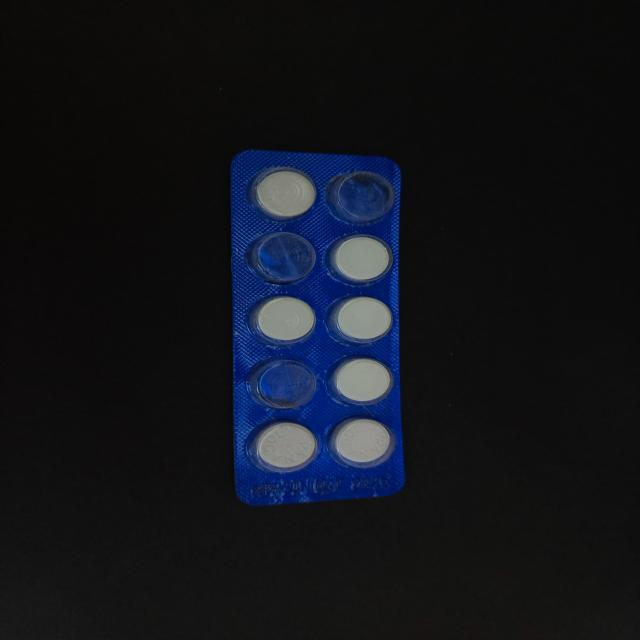defect: (321, 168, 399, 228), (243, 228, 322, 286), (245, 354, 321, 412)
